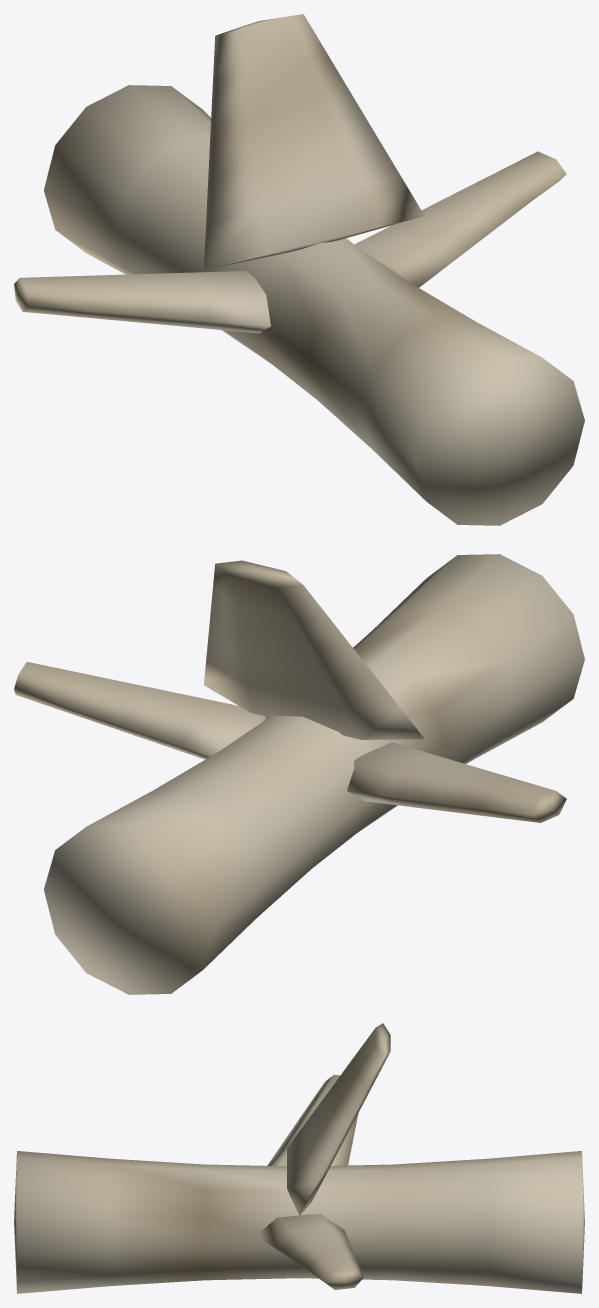
Rendered from bone-vertebra-b.glb.
The picture shows the model from 3 angles, top to bottom: view 1: azimuth 30°, elevation 25°; view 2: azimuth 150°, elevation 25°; view 3: azimuth 270°, elevation 25°; orthographic projection. The views are drawn at different scales.
Visible parts, largest first — view 1: bone-vertebra-b; view 2: bone-vertebra-b; view 3: bone-vertebra-b.
Boxes of the visible parts, left/top/right/bottom form: bone-vertebra-b: left=14, top=14, right=584, bottom=525; bone-vertebra-b: left=14, top=554, right=584, bottom=994; bone-vertebra-b: left=14, top=1023, right=584, bottom=1293.
Size of the model in its own units: 0.6331 by 0.3706 by 0.7638.
